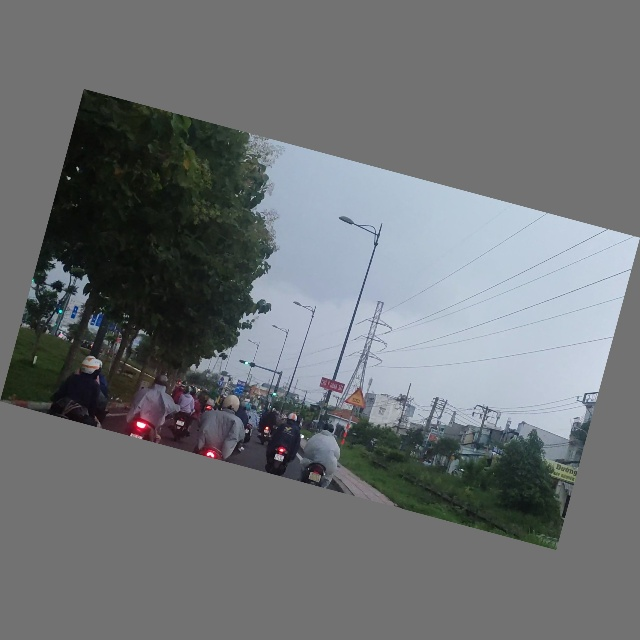W.210: (346, 386, 370, 409)
